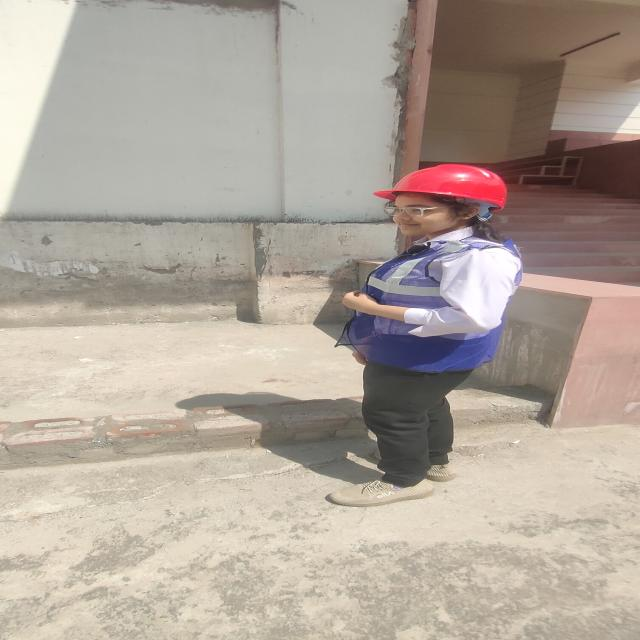safe: (330, 164, 522, 505)
